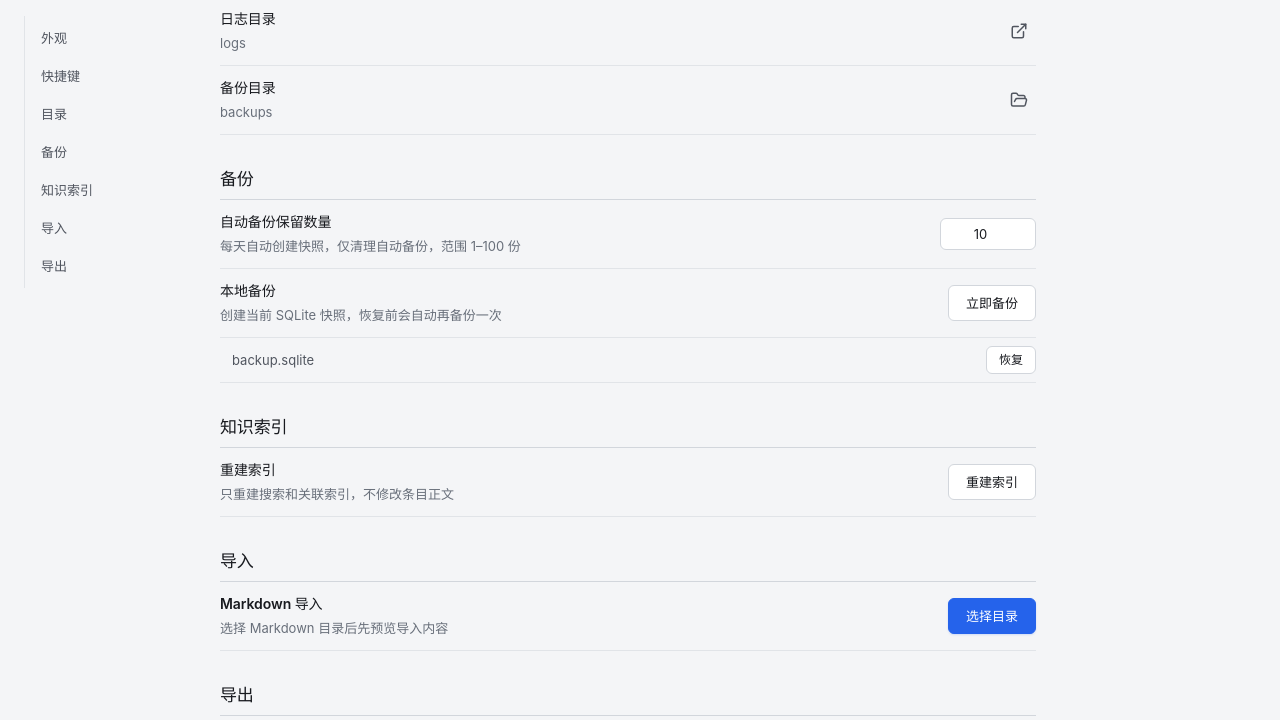
Test case: SettingsView › keeps restored data invalidated when interface refresh fails
The image size is (1280, 720).
(page scrolled)
Click the button "恢复" at (1011, 360), box top-left (986, 346), bottom-right (1036, 374)
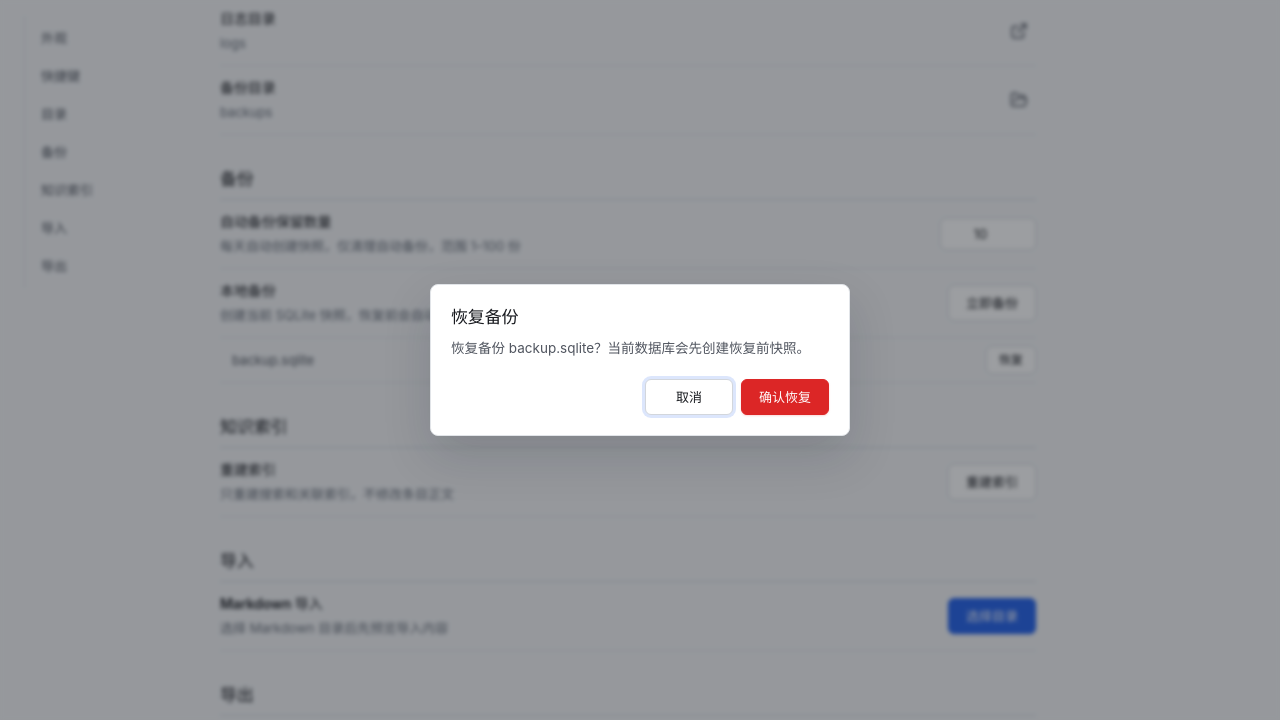
Check: the element with class "modal-actions" is shown, box top-left (645, 379), bottom-right (829, 415)
Check: the button "确认恢复" is shown
Click the button "确认恢复" at (785, 397), box top-left (741, 379), bottom-right (829, 415)
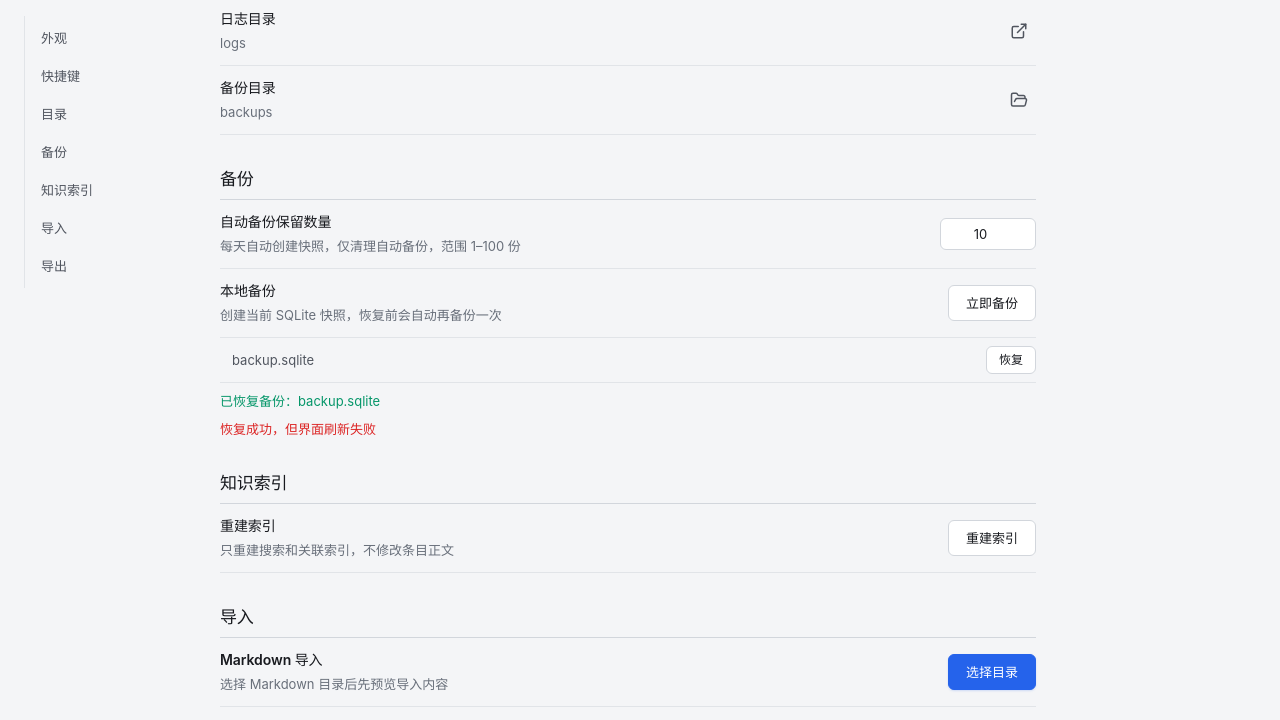
Check: the text "恢复成功，但界面刷新失败" is shown, box top-left (220, 421), bottom-right (376, 437)
